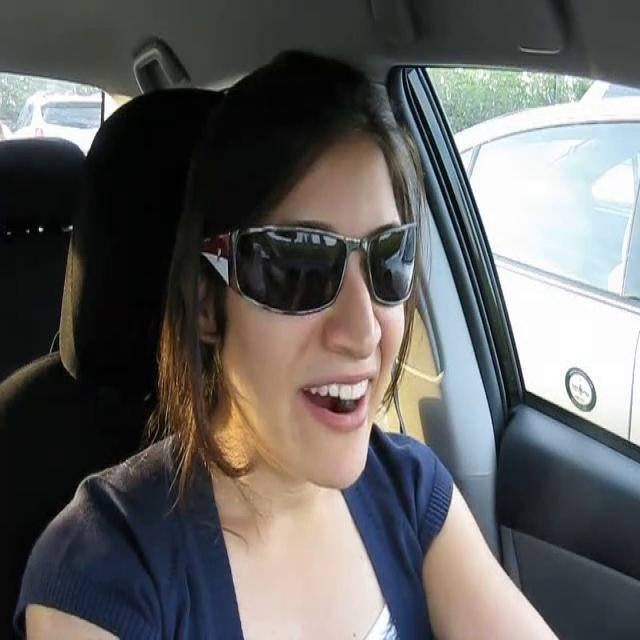open: (298, 368, 379, 437)
